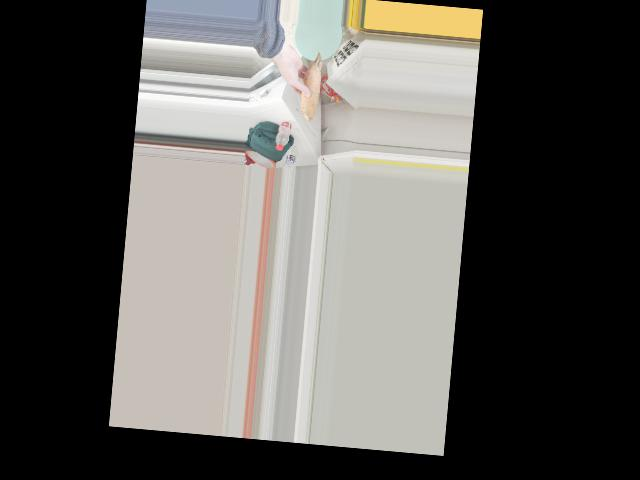sweet_potato: (296, 55, 324, 116)
